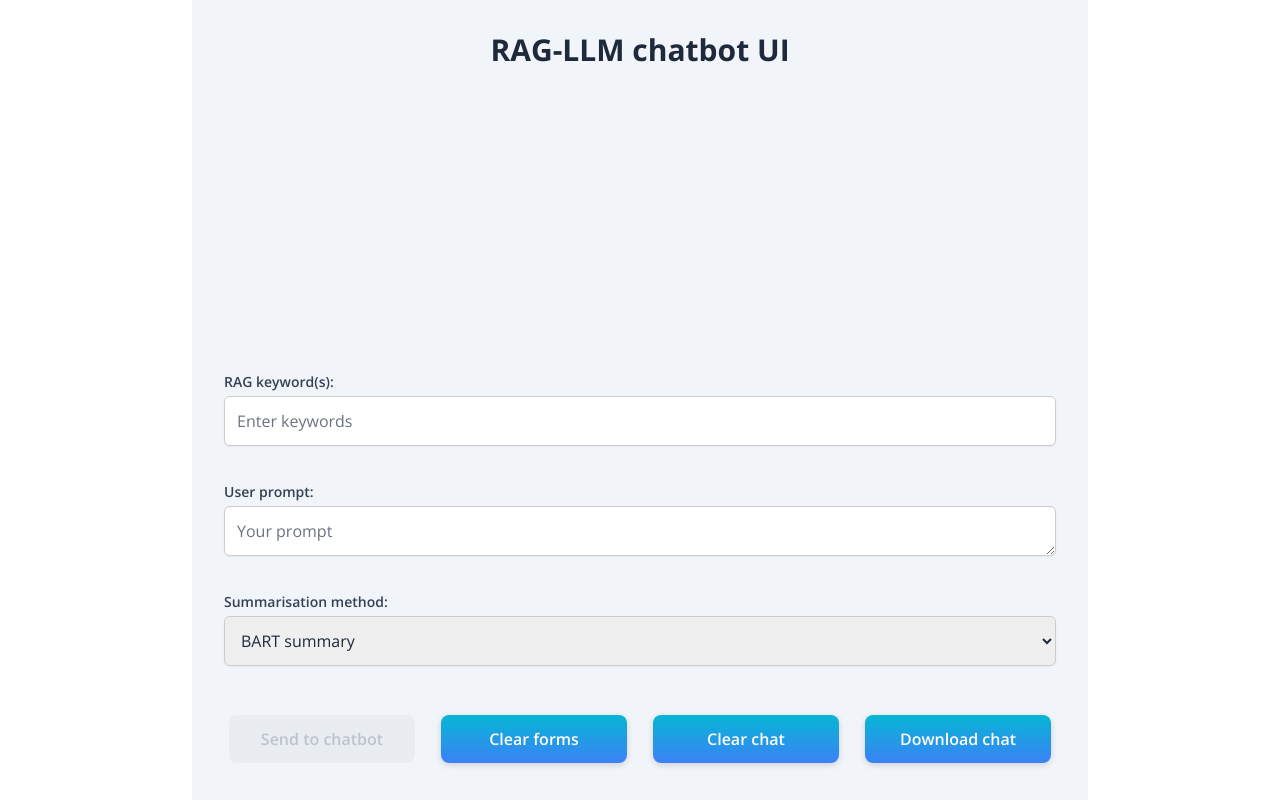
it: ChatInterface Component › should clear forms and chat
In the field labelled "RAG keyword(s):": point(640, 421) [224,396,1056,446], type "test keywords"
In the text box labelled "User prompt:": point(640, 531) [224,506,1056,556], type "test prompt"
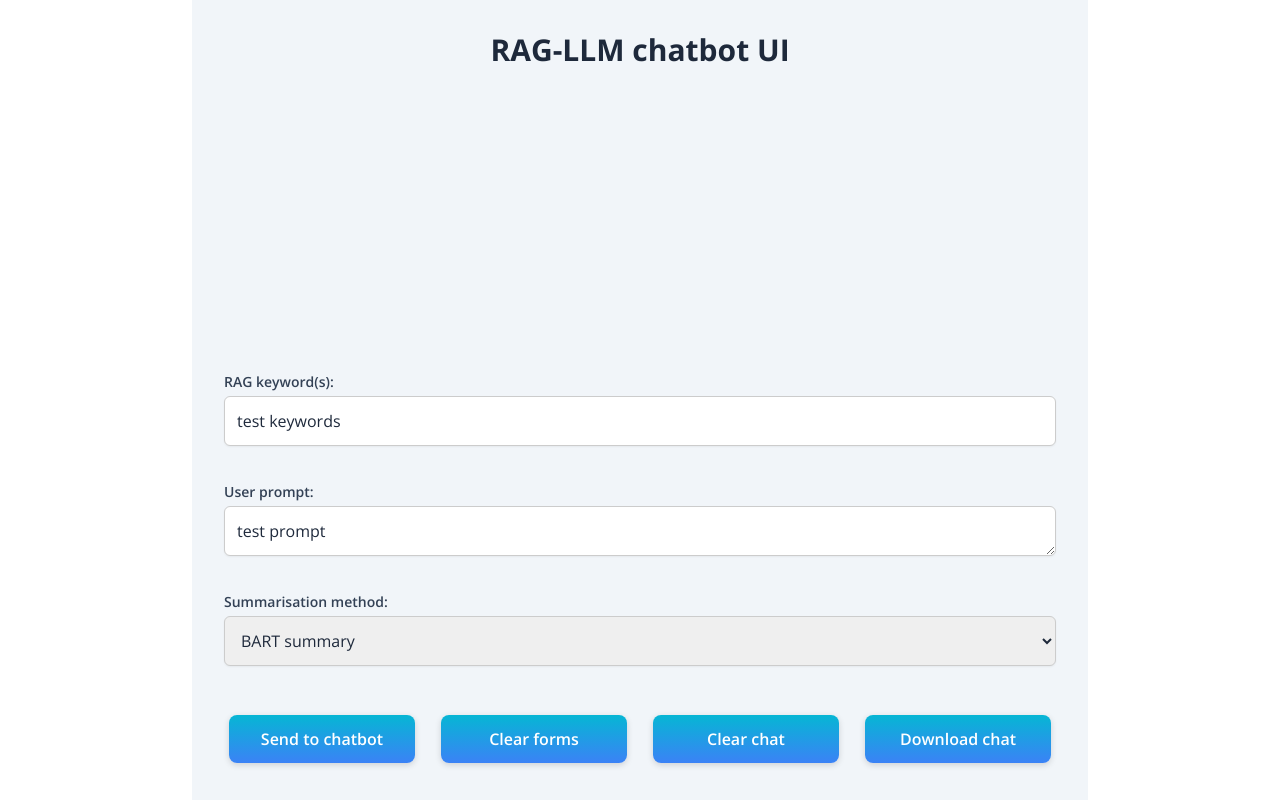
Select "Truncate context" in the dropdown labelled "Summarisation method:": point(640, 641) [224,616,1056,666]
Click the button "Clear forms": point(534, 739) [441,715,627,763]
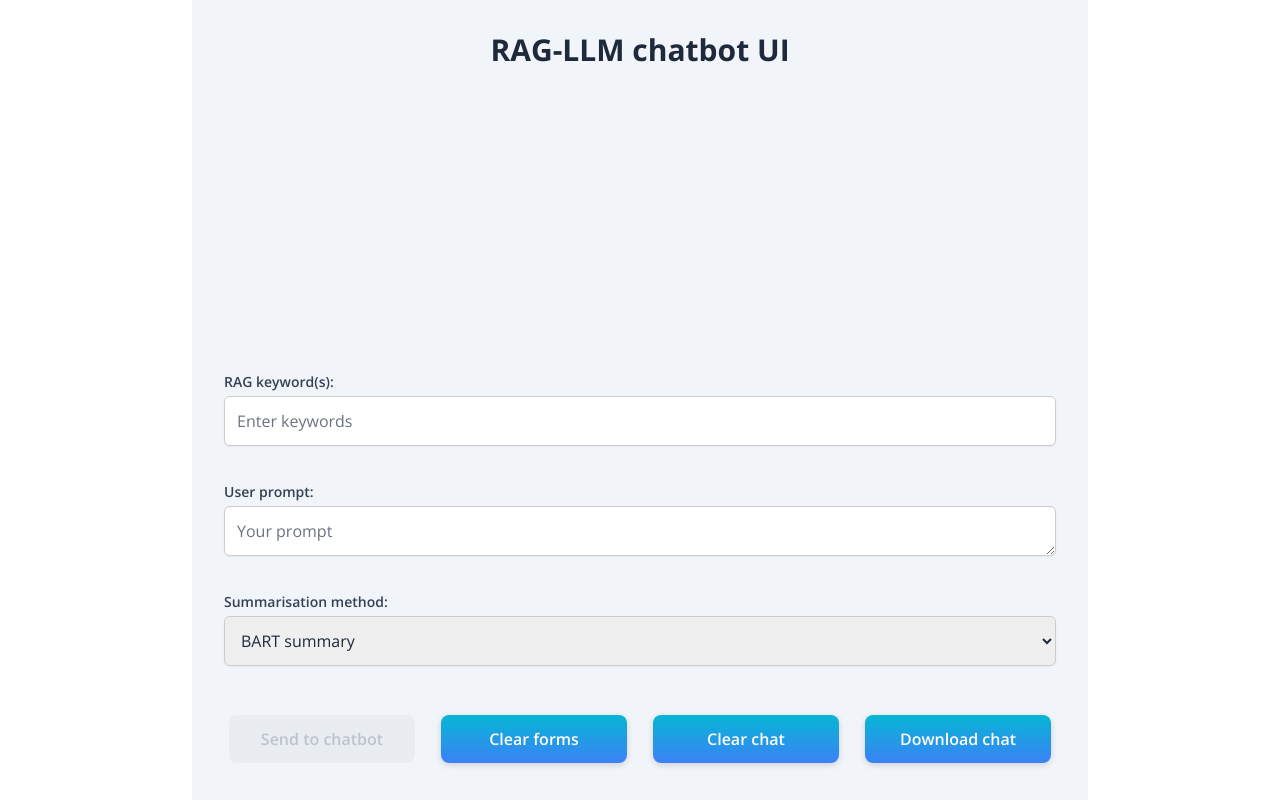
Check: the field labelled "RAG keyword(s):" is empty
Check: the text box labelled "User prompt:" is empty, box [224,506,1056,556]
In the field labelled "RAG keyword(s):": point(640, 421) [224,396,1056,446], type "test"
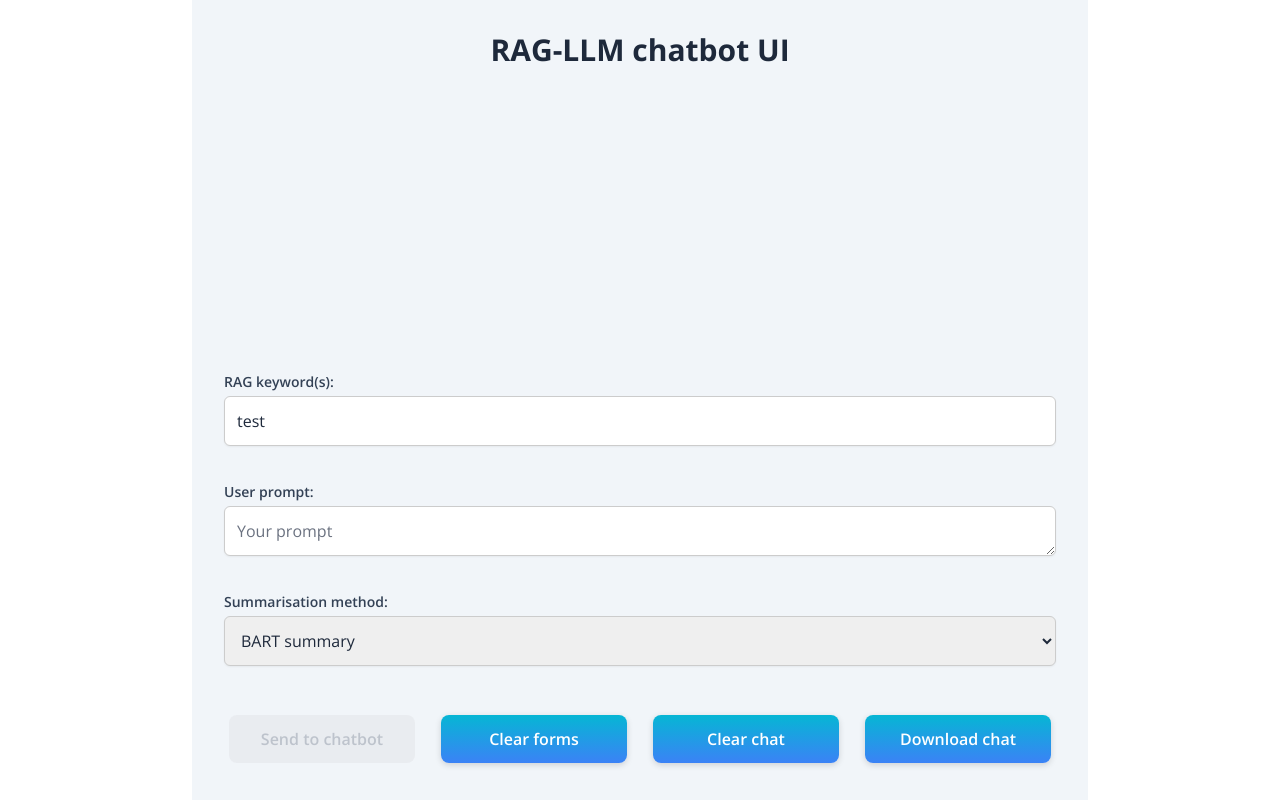
In the text box labelled "User prompt:": point(640, 531) [224,506,1056,556], type "test"
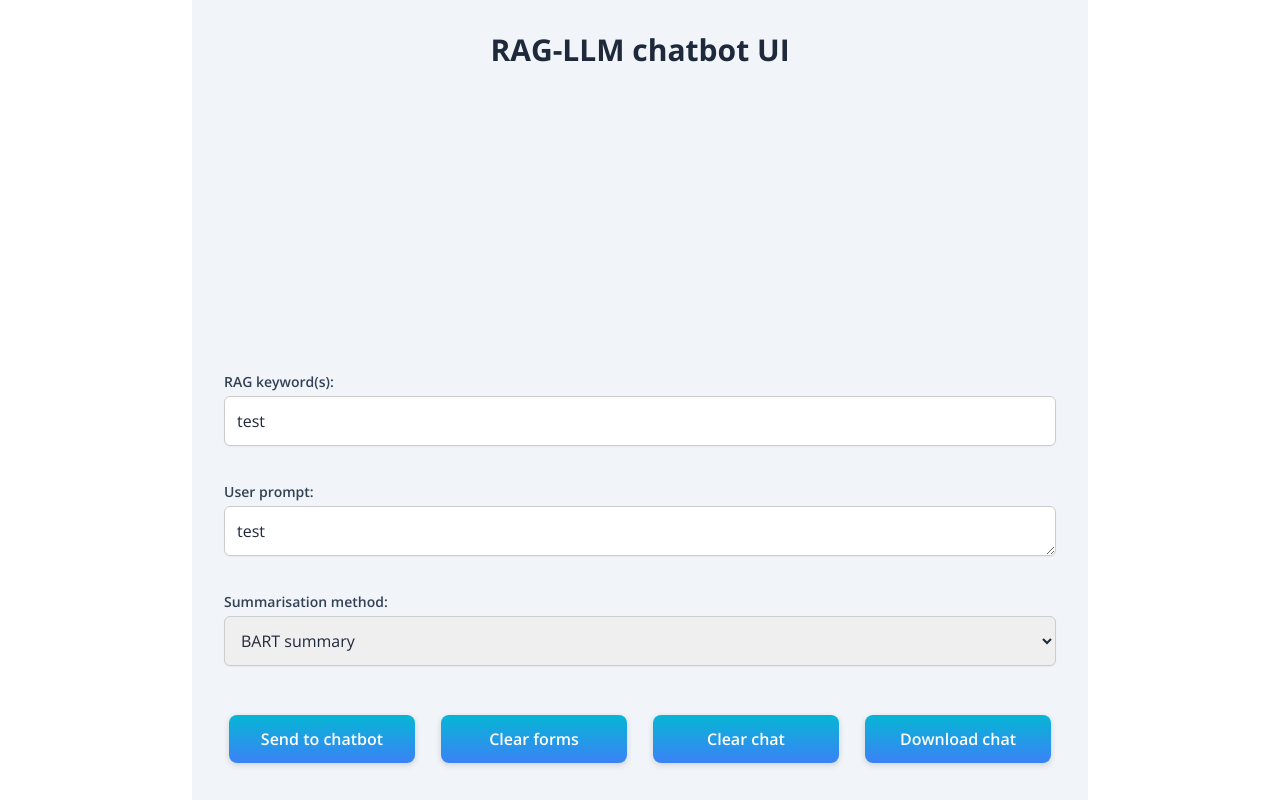
Click the button "Send to chatbot": point(322, 739) [229,715,415,763]
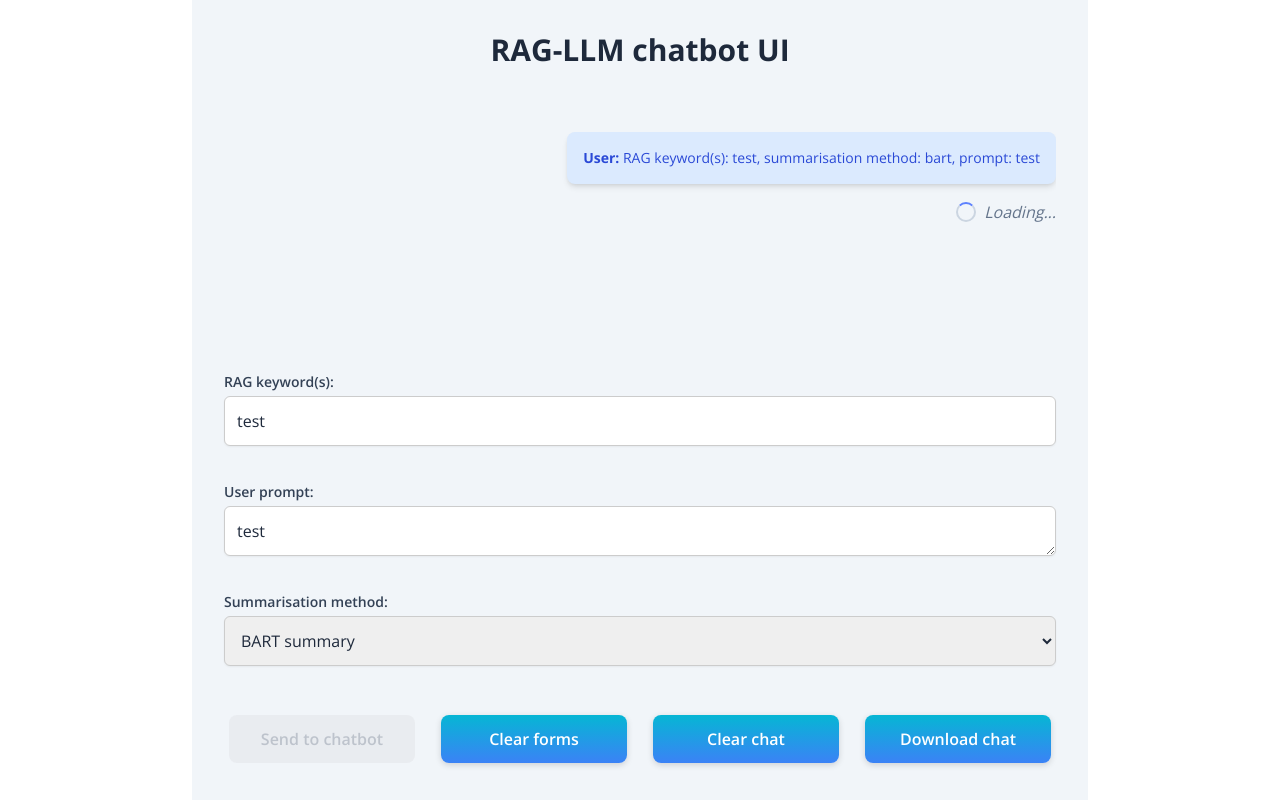
Click the button "Clear chat": point(746, 739) [653,715,839,763]
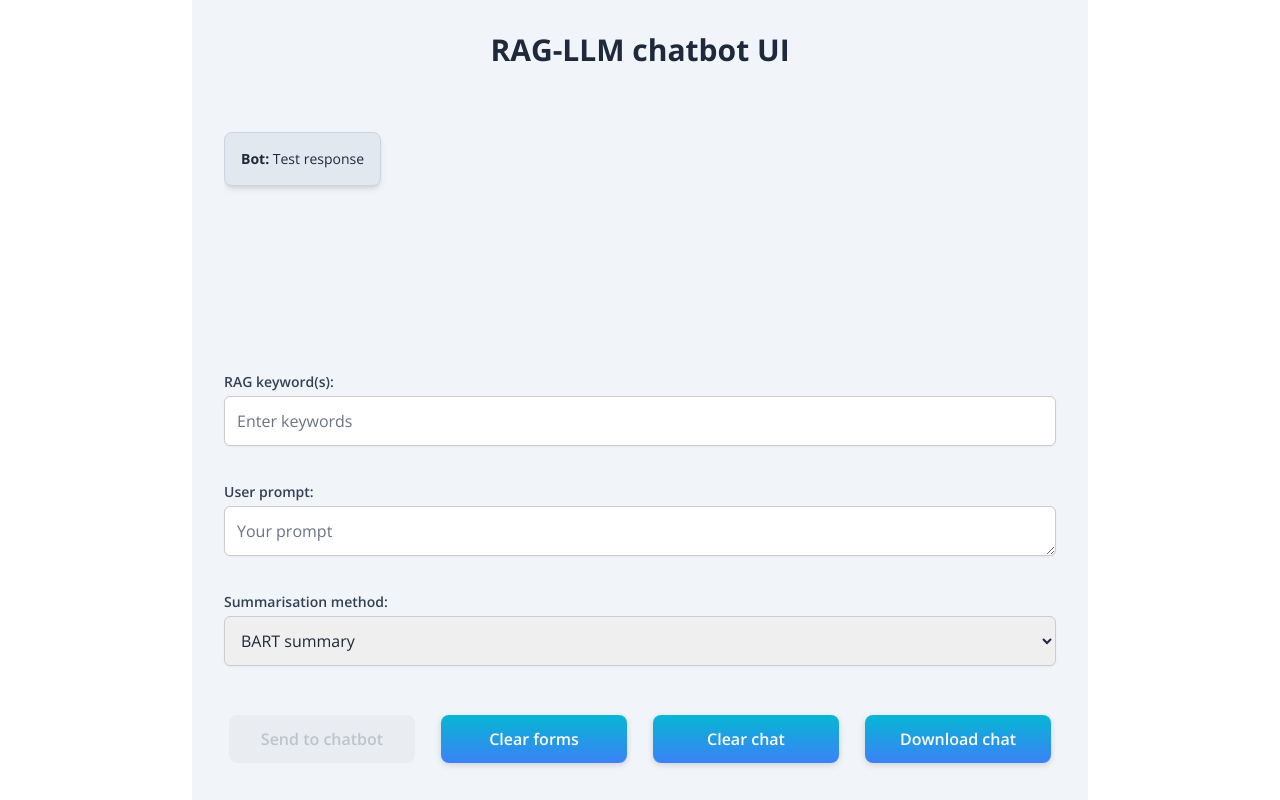
Check: the text "Bot:" is shown, box [241,149,269,168]
